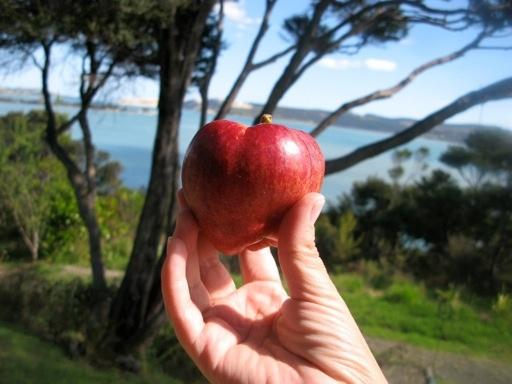apple: (182, 113, 325, 256)
